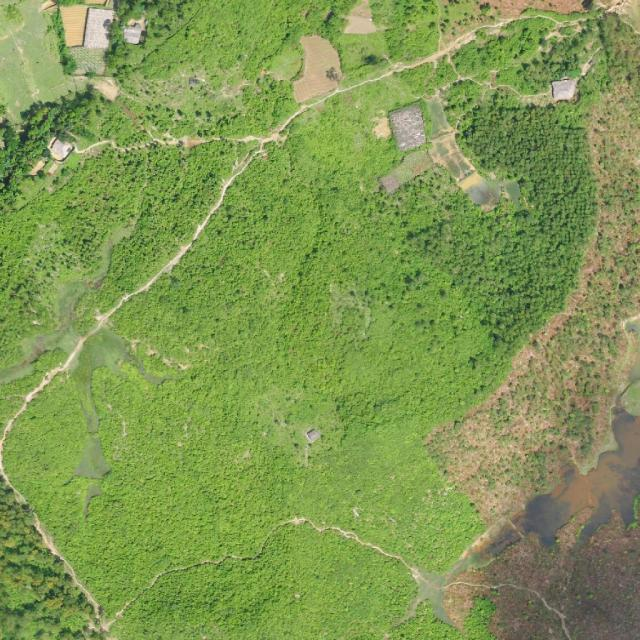building: (83, 7, 115, 51), (123, 17, 147, 44)
greenland: (0, 477, 103, 639)
